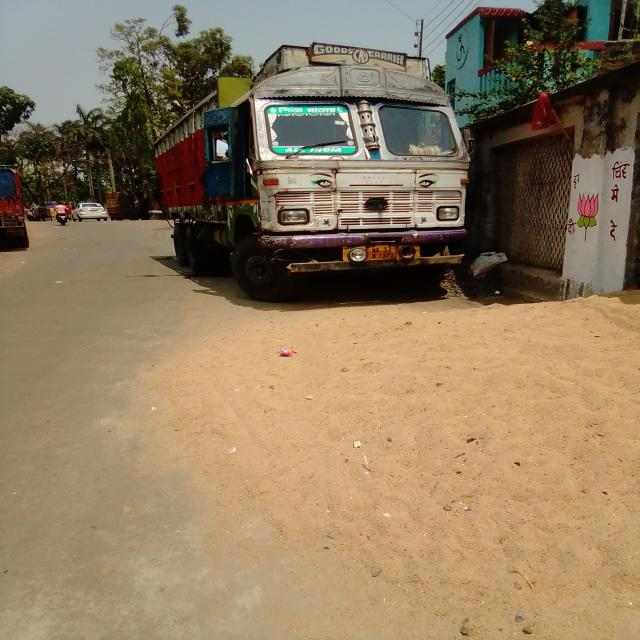Truck: (144, 70, 460, 292)
